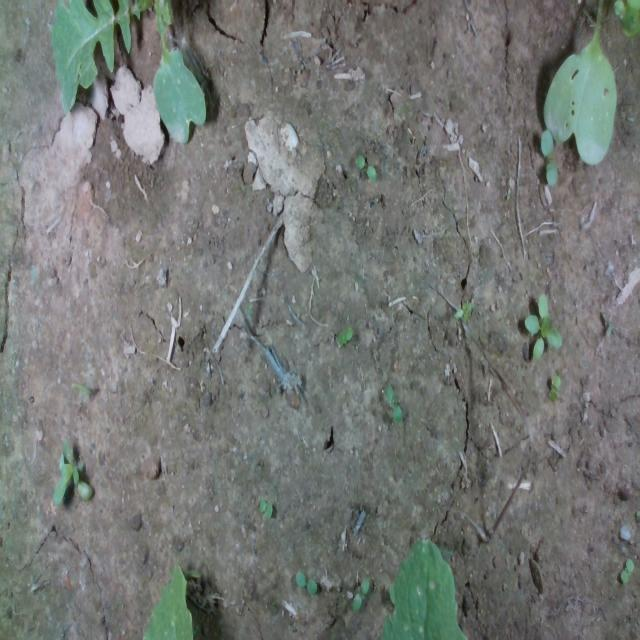weed: (523, 290, 563, 362), (382, 380, 402, 422), (350, 575, 370, 613), (354, 152, 377, 182), (294, 570, 317, 594), (547, 372, 561, 401), (619, 557, 634, 583), (336, 327, 352, 347), (257, 498, 273, 518), (506, 186, 510, 200)
